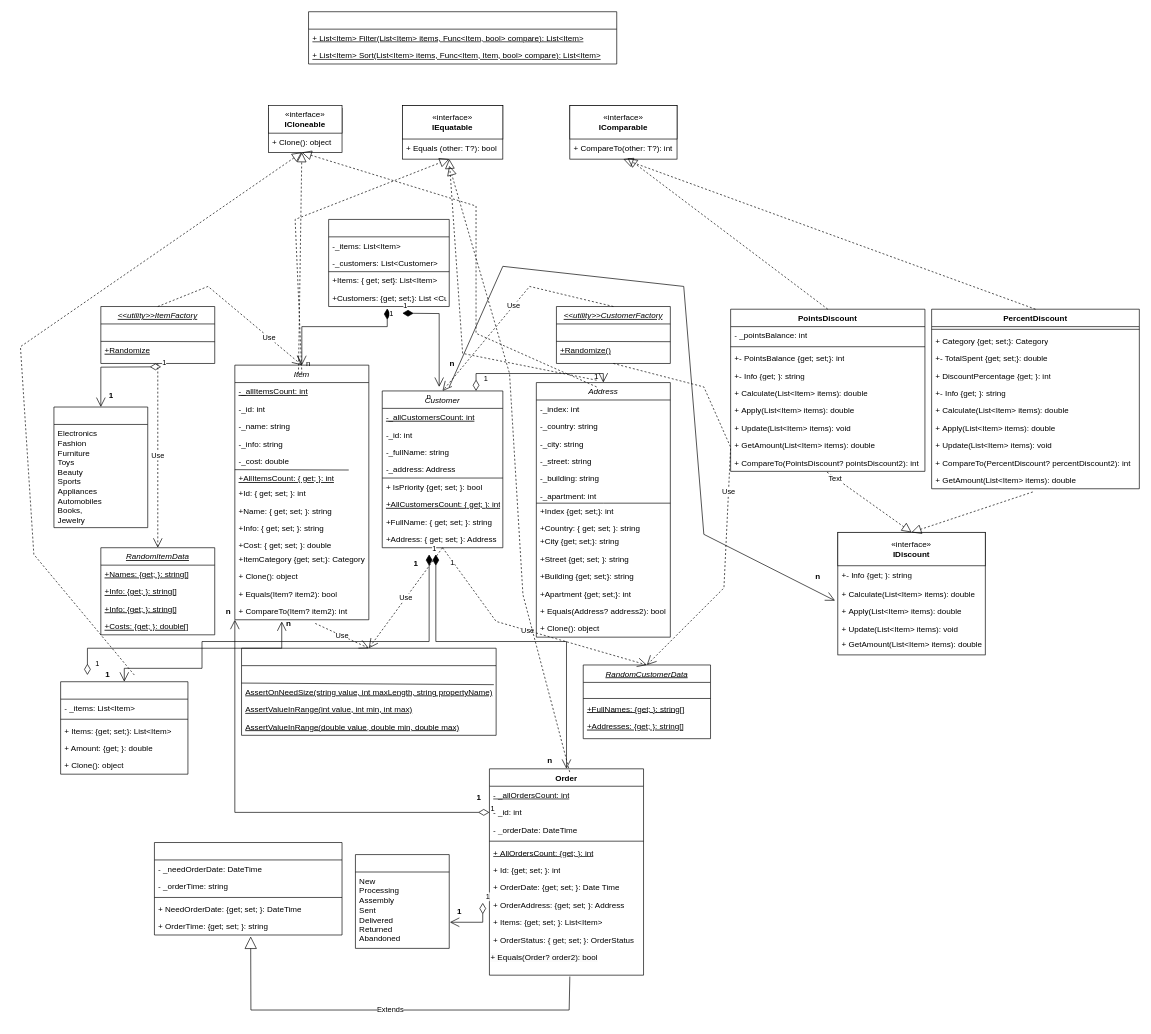
The diagram is 1151 pixels wide and 1034 high, and some of its shapes have lost their labels. Each missing label, with the box of its shape:
<<enimaration>> Category: (53, 406, 148, 528)
<<enimaration>> OrderStatus: (355, 854, 449, 948)
Cart: (60, 681, 188, 774)
DataTools: (308, 11, 617, 64)
PriorityOrder: (154, 842, 342, 935)
Store: (328, 219, 449, 307)
ValueValidator: (241, 648, 496, 735)
